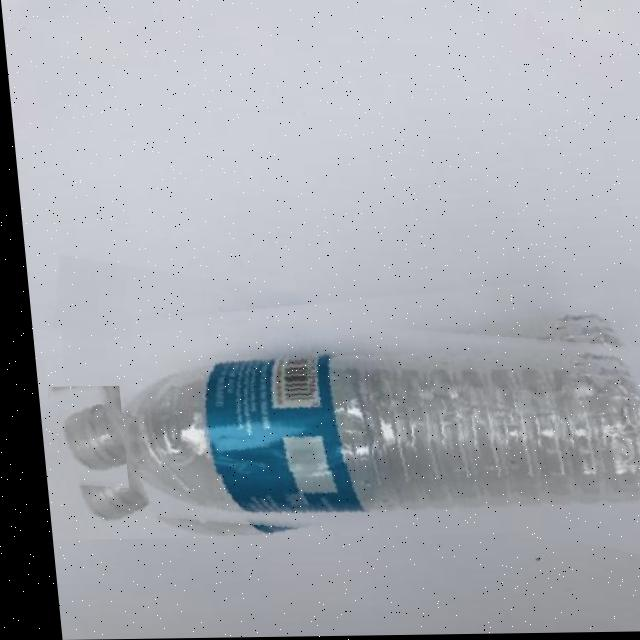litter: (25, 273, 640, 540), (38, 386, 118, 490)
